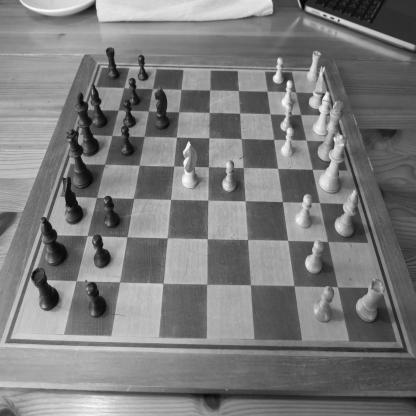black-bishop: (40, 216, 67, 267), (90, 84, 108, 128)
black-king: (74, 92, 100, 157)
black-knight: (62, 176, 83, 225), (154, 86, 170, 130)
black-pawn: (86, 282, 107, 318), (92, 234, 111, 269), (103, 195, 120, 229), (121, 125, 134, 157), (123, 99, 136, 128), (128, 77, 140, 106), (138, 54, 148, 81)
black-queen: (65, 128, 93, 190)
black-rook: (30, 267, 60, 311), (105, 47, 120, 80)
white-bishop: (334, 189, 359, 238), (312, 91, 331, 136)
white-king: (317, 100, 344, 162)
white-knight: (308, 66, 326, 110), (182, 141, 198, 189)
white-pawn: (312, 285, 334, 323), (304, 240, 324, 274), (295, 193, 313, 228), (222, 160, 236, 192), (281, 127, 294, 157), (280, 103, 293, 132), (272, 57, 285, 84), (282, 80, 294, 108)
white-queen: (319, 133, 349, 194)
white-rook: (355, 278, 385, 323), (306, 50, 322, 82)
